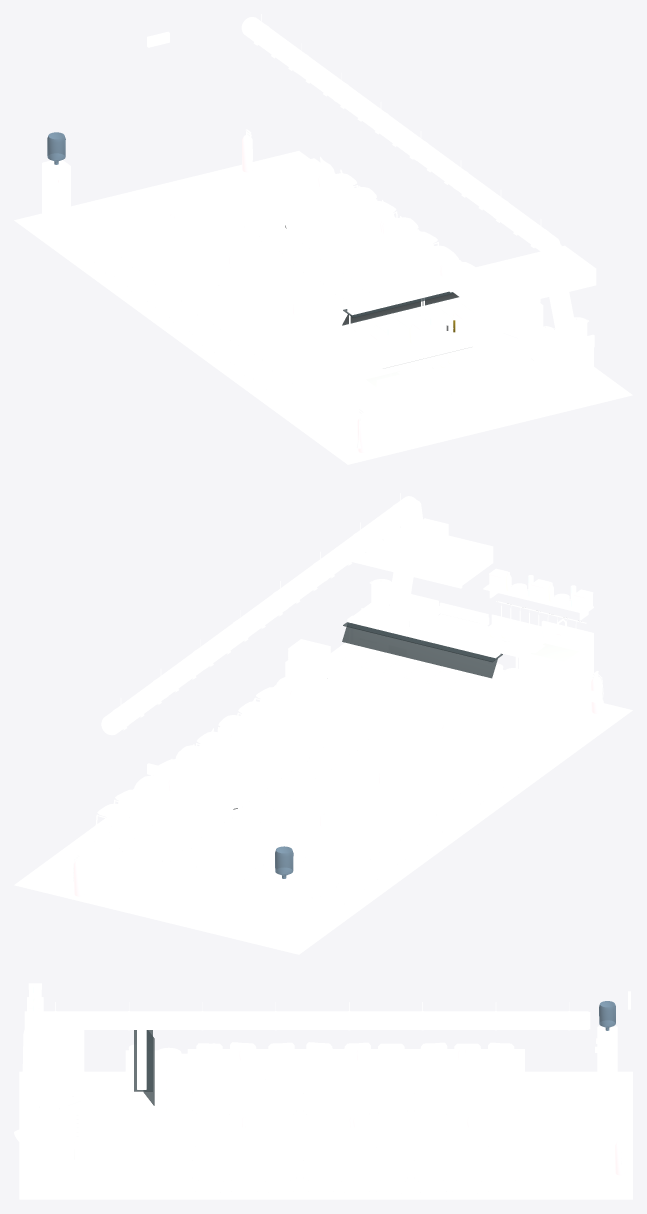
File: series4-fitout.glb
The picture shows the model from 3 angles, top to bottom: view 1: azimuth 30°, elevation 25°; view 2: azimuth 150°, elevation 25°; view 3: azimuth 270°, elevation 25°; orthographic projection. The views are drawn at different scales.
Parts seen in each view (by area): view 1: SERIES4_fitout; view 2: SERIES4_fitout; view 3: SERIES4_fitout.
Part boxes in pixels (x1,y1,x2,y2): SERIES4_fitout: (14, 14, 632, 464); SERIES4_fitout: (14, 493, 632, 954); SERIES4_fitout: (14, 983, 632, 1199).
Bounding box in the file's own units: 4.76 × 2.87 × 9.74.
